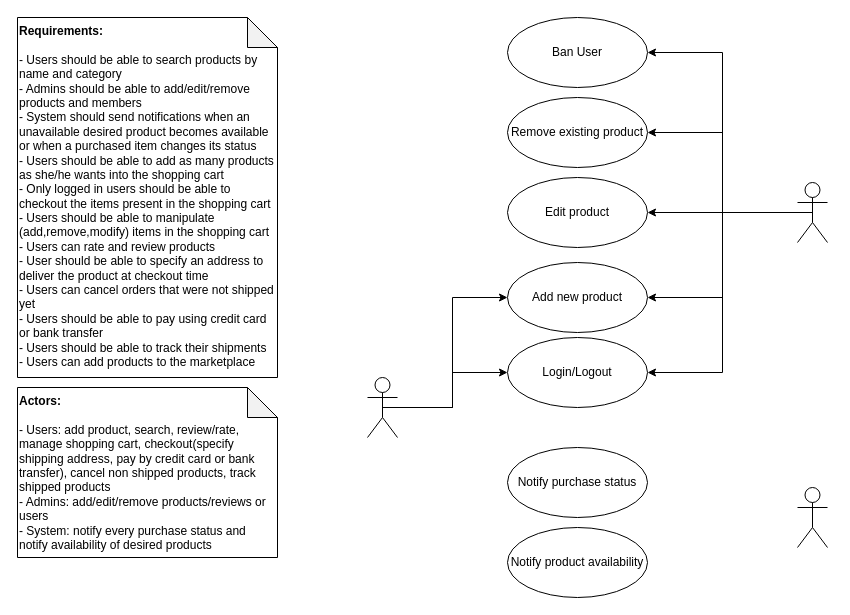
Image size: 850x615. Some labels were removed from this diagram. The box of each missing label's shape, as (x1, y1, x2, y2) in pixels:
Admin: (796, 182, 828, 242)
System: (796, 486, 828, 548)
User: (366, 376, 398, 438)
